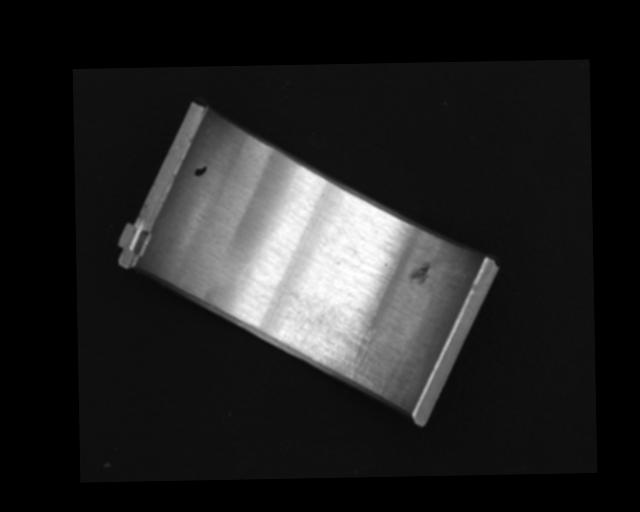blot: (193, 164, 208, 177)
bruise: (407, 263, 432, 285)
scratch: (287, 303, 388, 396)
